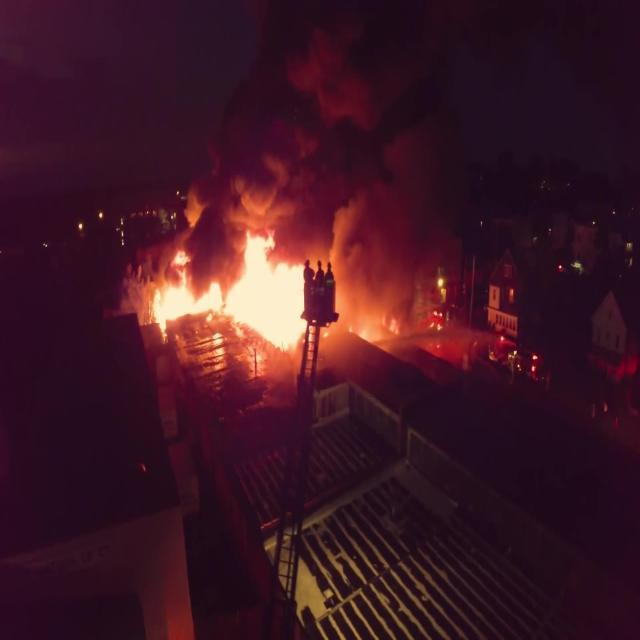Fire: (239, 244, 294, 340), (158, 280, 220, 330)
Smoke: (212, 0, 379, 370)
